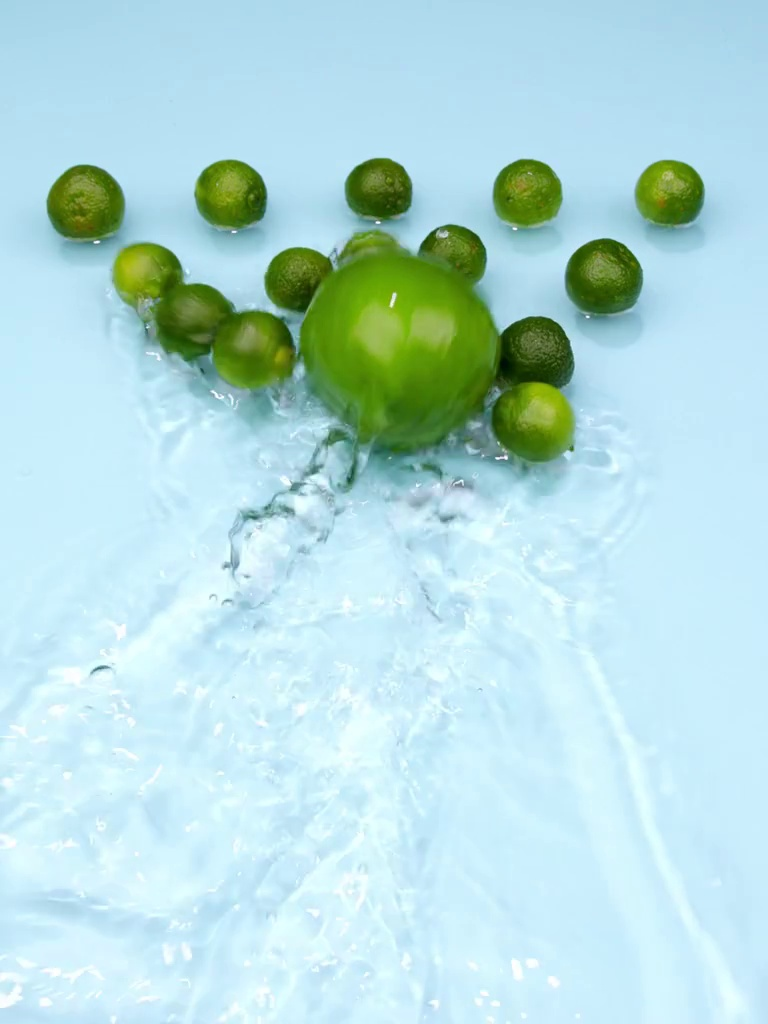Orange: (301, 253, 490, 448), (48, 168, 124, 243), (194, 163, 269, 226), (493, 155, 559, 226)
